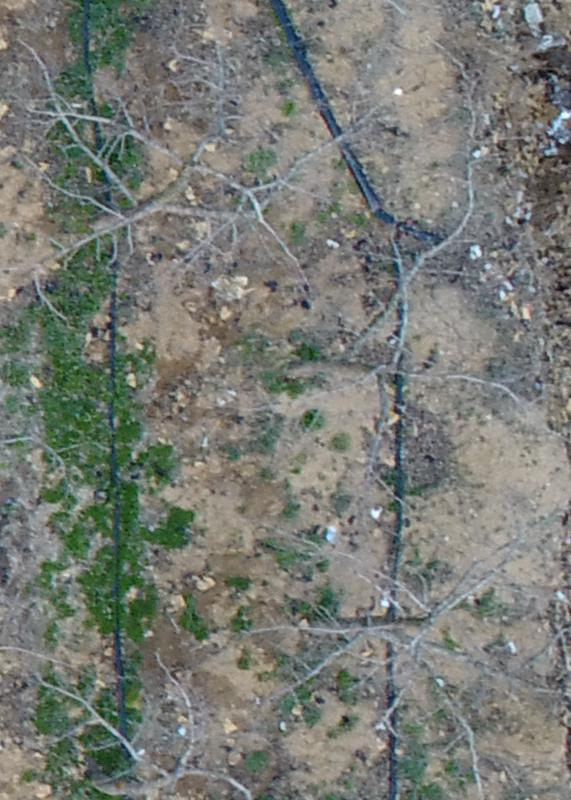apple: (10, 38, 388, 305), (299, 76, 522, 521), (210, 514, 558, 790), (20, 658, 328, 790)
